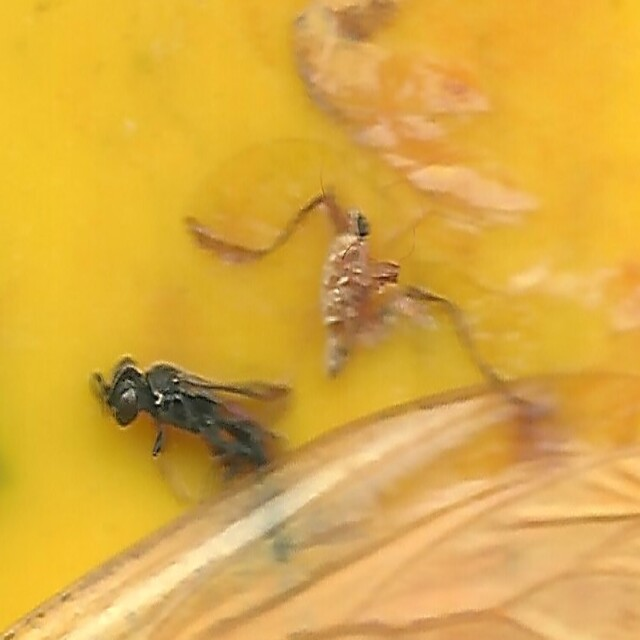Ephemeroptera: (187, 141, 555, 408)
Hymenoptera: (85, 357, 294, 499)
